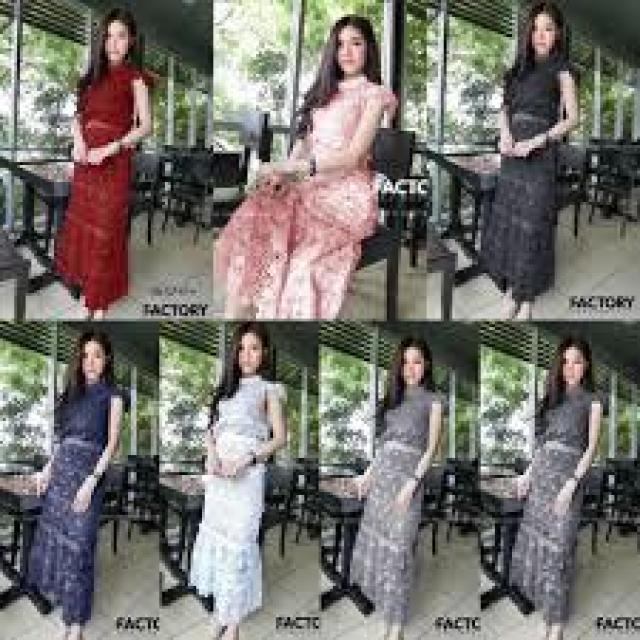dress: (210, 75, 396, 323), (189, 371, 289, 630), (474, 54, 578, 299), (48, 54, 148, 307), (26, 384, 125, 626), (344, 388, 447, 619), (508, 377, 602, 619)
